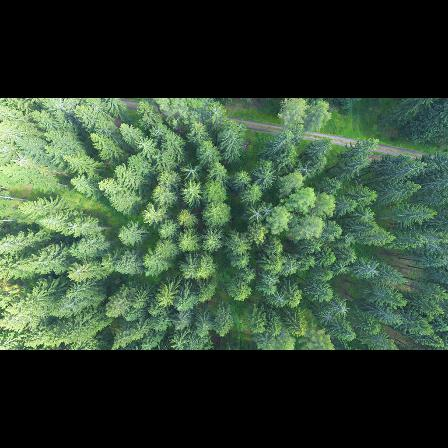Sick: (362, 260, 383, 280), (179, 162, 201, 180), (207, 103, 227, 120), (294, 160, 313, 176), (319, 309, 337, 322), (262, 201, 276, 217), (264, 271, 278, 287), (149, 123, 166, 136), (273, 290, 287, 305), (249, 208, 264, 221), (334, 302, 349, 314)
